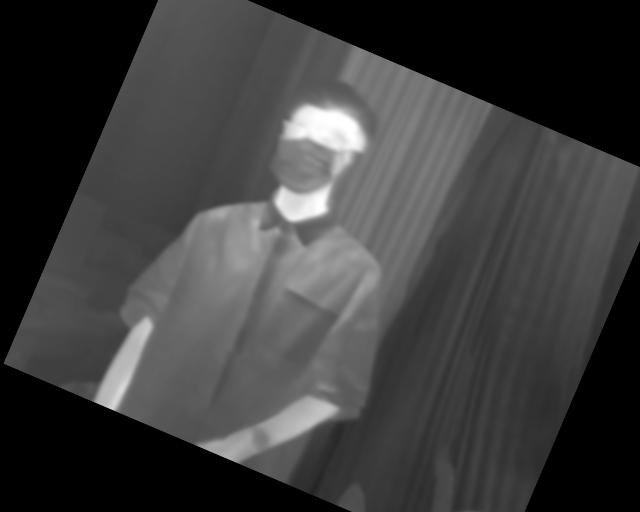face: (257, 63, 391, 213)
